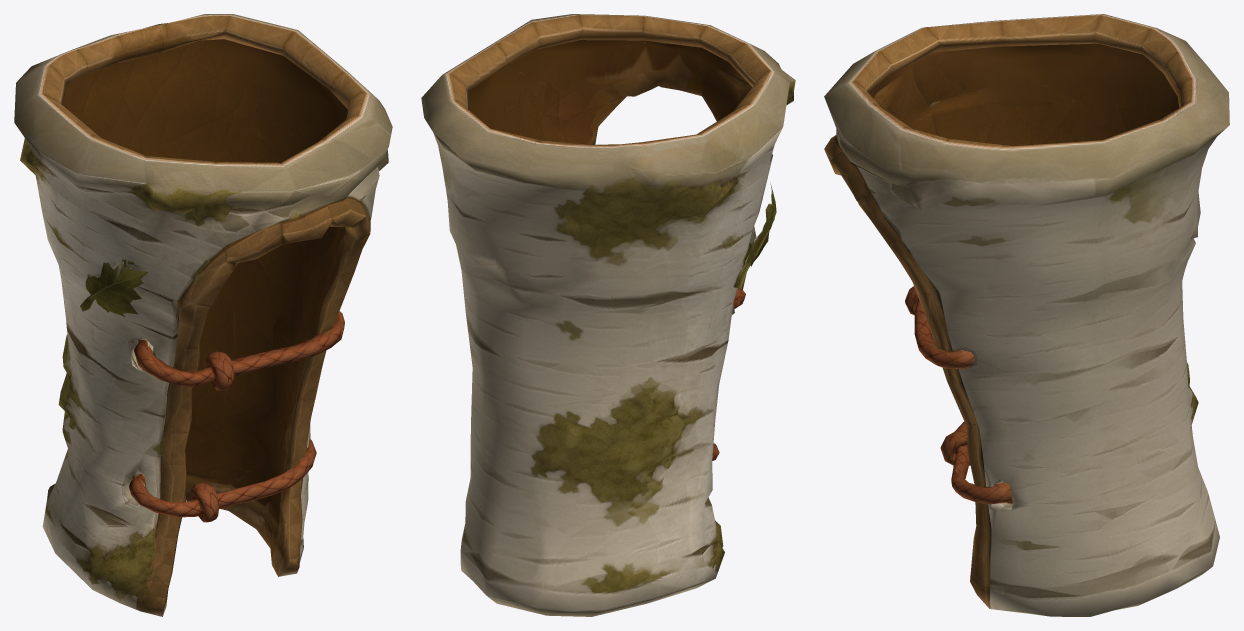
The model's file is bark-bracer-i1_i23d.glb.
3 renders of one model, left to right at view 1: azimuth 30°, elevation 25°; view 2: azimuth 150°, elevation 25°; view 3: azimuth 270°, elevation 25°, orthographic. The views are drawn at different scales.
Bounding box in the file's own units: 0.6118 × 0.9517 × 0.686.
Materials: 1 (1 with a texture image).
